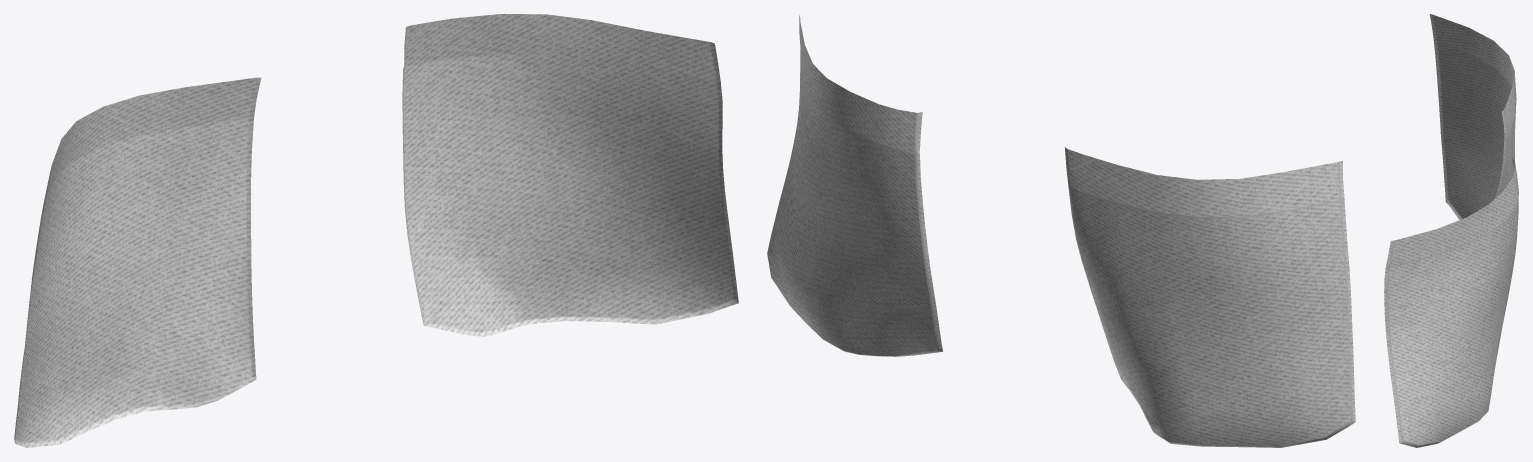
Rendered from Pants_Pocket_BEHINDE.glb.
The picture shows the model from 3 angles, left to right: view 1: azimuth 30°, elevation 25°; view 2: azimuth 150°, elevation 25°; view 3: azimuth 270°, elevation 25°; orthographic projection. The views are drawn at different scales.
Visible parts, largest first — view 1: Pants_Pocket_BEHINDE1; view 2: Pants_Pocket_BEHINDE1, Rope1; view 3: Pants_Pocket_BEHINDE1, Rope1.
Boxes of the visible parts, x1,y1,x2,y2 form: Pants_Pocket_BEHINDE1: [14, 14, 738, 447]; Pants_Pocket_BEHINDE1: [767, 15, 1355, 447]; Rope1: [767, 32, 1352, 447]; Pants_Pocket_BEHINDE1: [1384, 14, 1518, 447]; Rope1: [1385, 98, 1518, 446].
Size of the model in its own units: 0.5841 by 0.2548 by 0.1394.
Materials: 2 (2 with a texture image).
